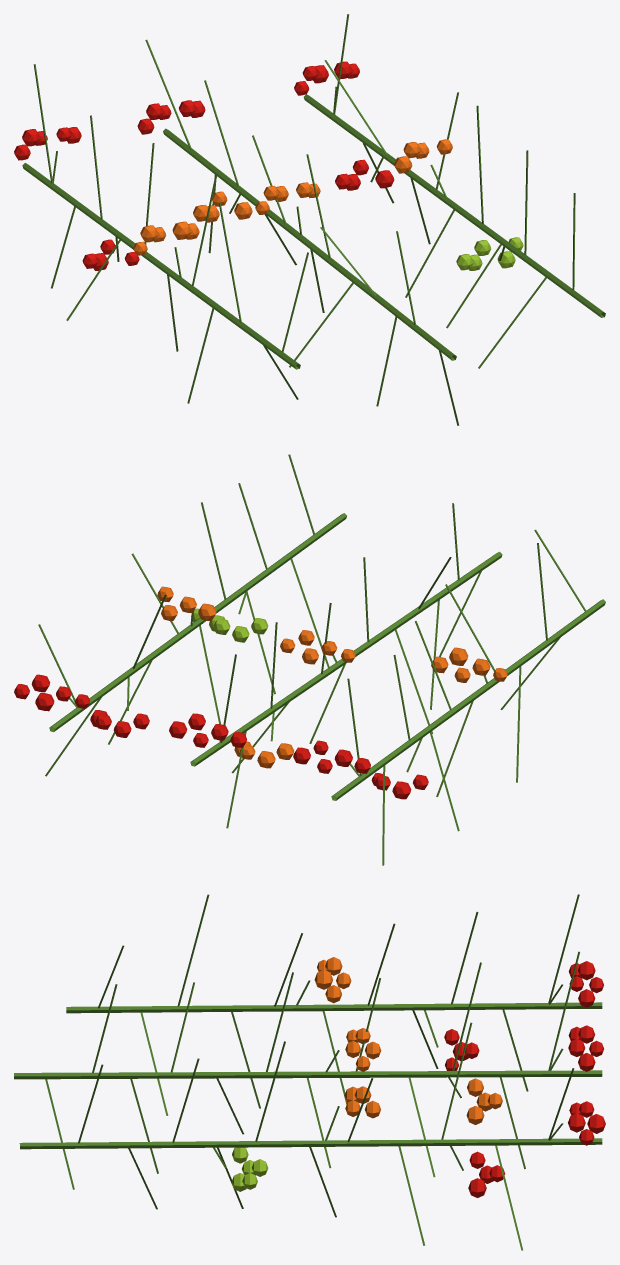
The model's file is r12c4_stems.obj.
3 renders of one model, top to bottom at view 1: azimuth 30°, elevation 25°; view 2: azimuth 150°, elevation 25°; view 3: azimuth 270°, elevation 25°, orthographic.
Visible parts, largest first — view 1: r12c4_stems; view 2: r12c4_stems; view 3: r12c4_stems.
Boxes of the visible parts, x1,y1,x2,y2 form: r12c4_stems: (14, 14, 605, 425); r12c4_stems: (14, 454, 605, 865); r12c4_stems: (14, 894, 605, 1250).
Size of the model in its own units: 1.5 by 0.8484 by 2.09.
